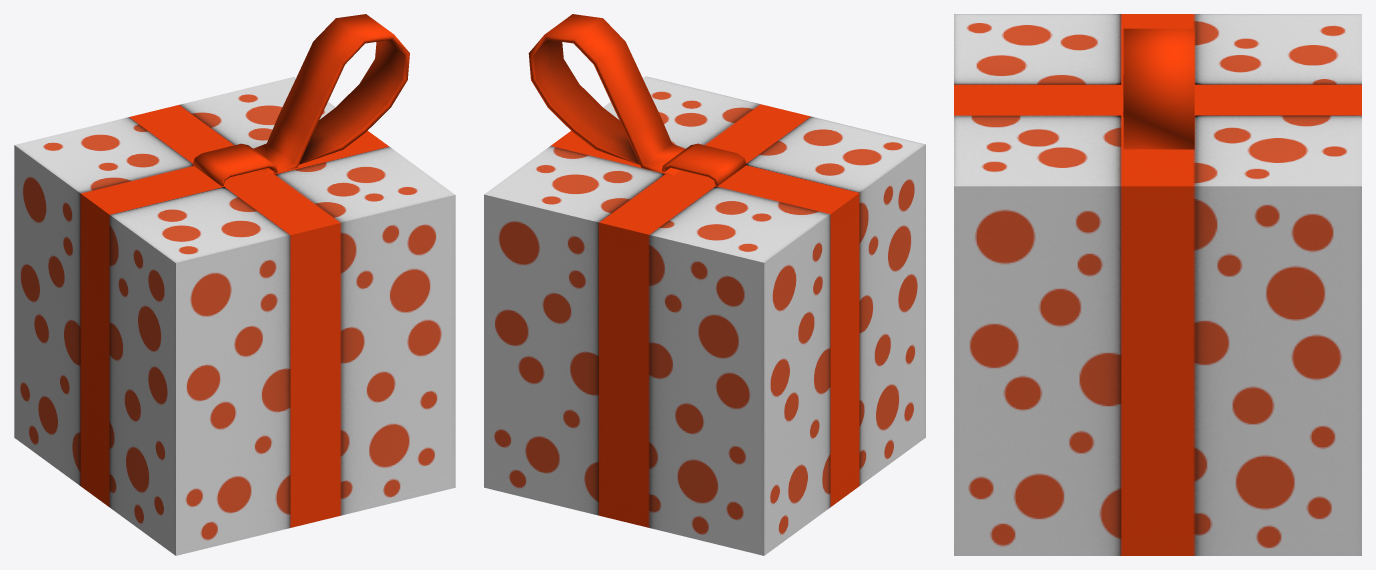
The picture shows the model from 3 angles, left to right: view 1: azimuth 30°, elevation 25°; view 2: azimuth 150°, elevation 25°; view 3: azimuth 270°, elevation 25°; orthographic projection. The views are drawn at different scales.
Visible parts, largest first — view 1: smMAT0110013; view 2: smMAT0110013; view 3: smMAT0110013.
Part boxes in pixels (x1=…): smMAT0110013: x1=14, y1=14, x2=455, y2=555; smMAT0110013: x1=484, y1=14, x2=925, y2=555; smMAT0110013: x1=954, y1=14, x2=1361, y2=555.
Size of the model in its own units: 63.32 by 81.46 by 58.78.
Materials: 1 (1 with a texture image).
